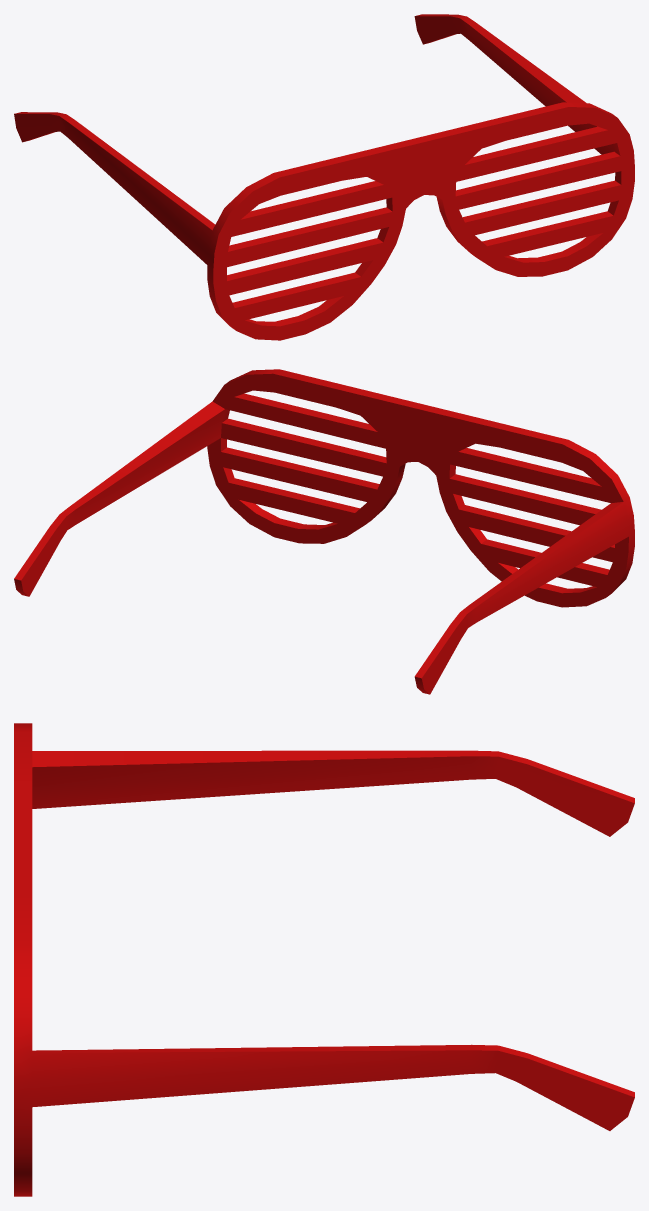
File: ShutterShadeGlasses.fbx
The picture shows the model from 3 angles, top to bottom: view 1: azimuth 30°, elevation 25°; view 2: azimuth 150°, elevation 25°; view 3: azimuth 270°, elevation 25°; orthographic projection. The views are drawn at different scales.
Parts seen in each view (by area): view 1: ShutterShadeGlasses; view 2: ShutterShadeGlasses; view 3: ShutterShadeGlasses.
Boxes of the visible parts, x1,y1,x2,y2 form: ShutterShadeGlasses: [14, 14, 634, 340]; ShutterShadeGlasses: [14, 369, 634, 694]; ShutterShadeGlasses: [14, 723, 634, 1196].
Bounding box in the file's own units: 71.9 × 26.62 × 60.96.
